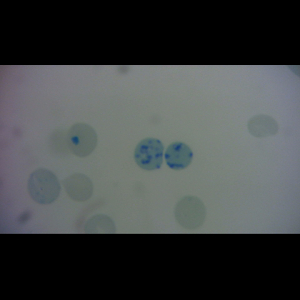aggregate reticulocyte: (133, 137, 165, 171), (165, 141, 194, 169)
erythrocyte: (173, 195, 207, 230), (66, 123, 98, 158), (61, 173, 94, 203), (247, 114, 280, 139)
punctate reticulocyte: (27, 169, 61, 205)
